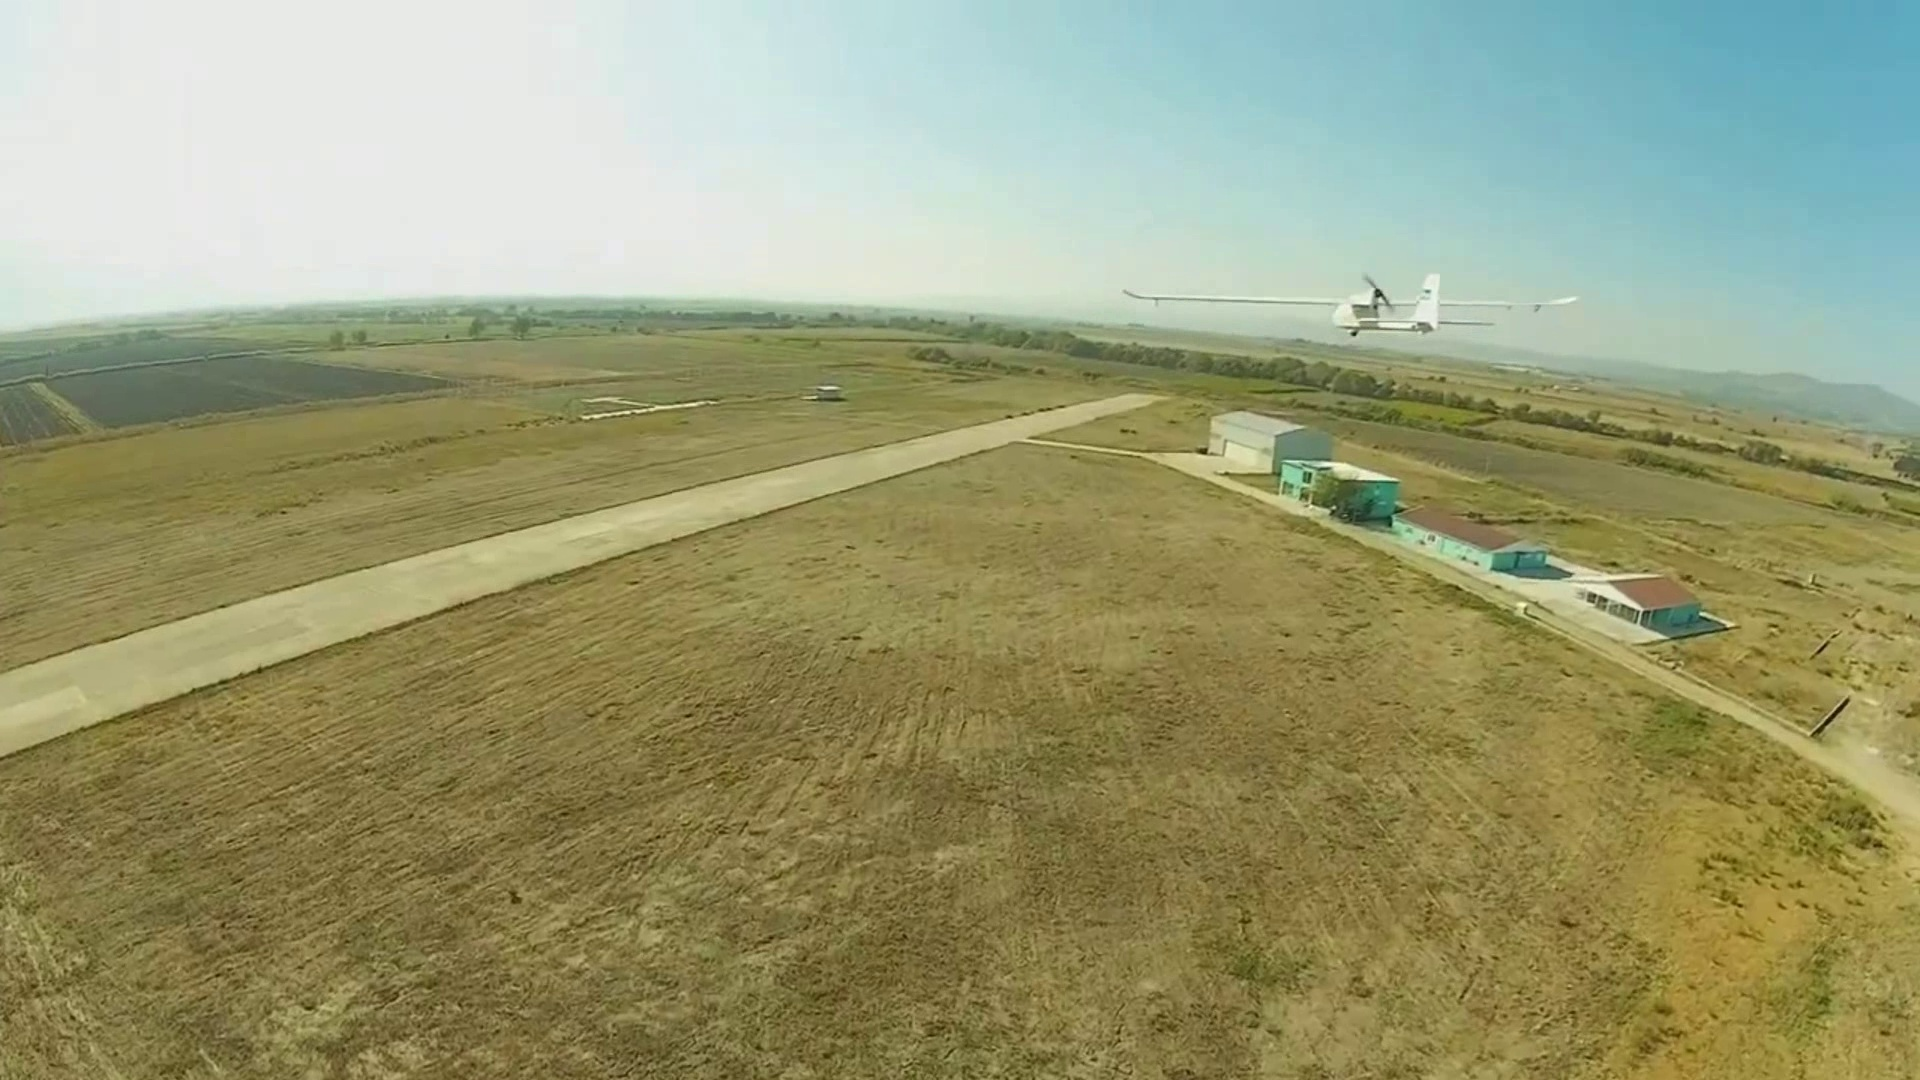airplane: (1113, 266, 1582, 344), (1331, 266, 1582, 342), (1335, 273, 1439, 340)
